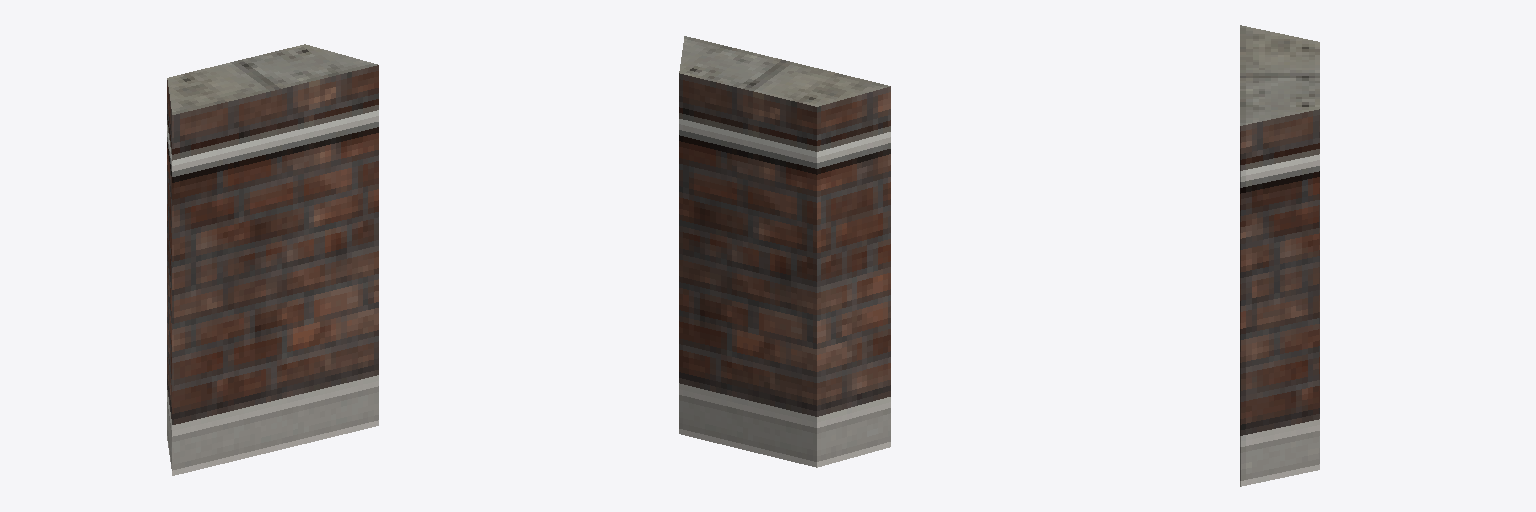
The picture shows the model from 3 angles: view 1: azimuth 30°, elevation 25°; view 2: azimuth 150°, elevation 25°; view 3: azimuth 270°, elevation 25°; orthographic projection.
Parts seen in each view (by area): view 1: wallA_detail; view 2: wallA_detail; view 3: wallA_detail.
Boxes of the visible parts, x1,y1,x2,y2 form: wallA_detail: [167, 44, 378, 475]; wallA_detail: [679, 36, 890, 467]; wallA_detail: [1240, 25, 1319, 486].
Size of the model in its own units: 0.6 by 1 by 0.2.
3 materials, 2 textured.